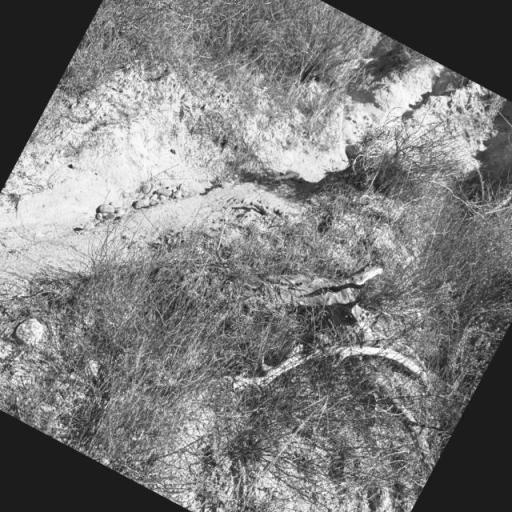mallet: (269, 162, 300, 192)
